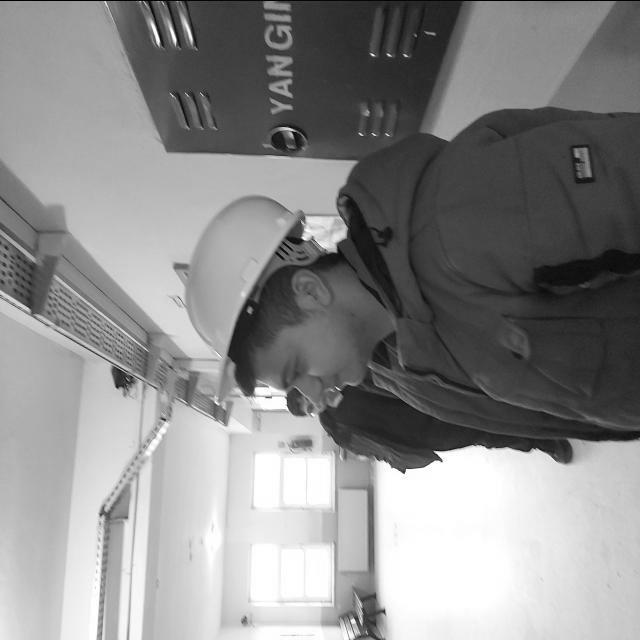construction helmet: (185, 194, 344, 400)
